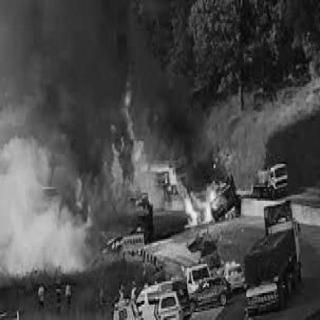Fire: (106, 84, 147, 198), (170, 168, 234, 228), (71, 169, 97, 219)
Smoke: (20, 5, 198, 117)
